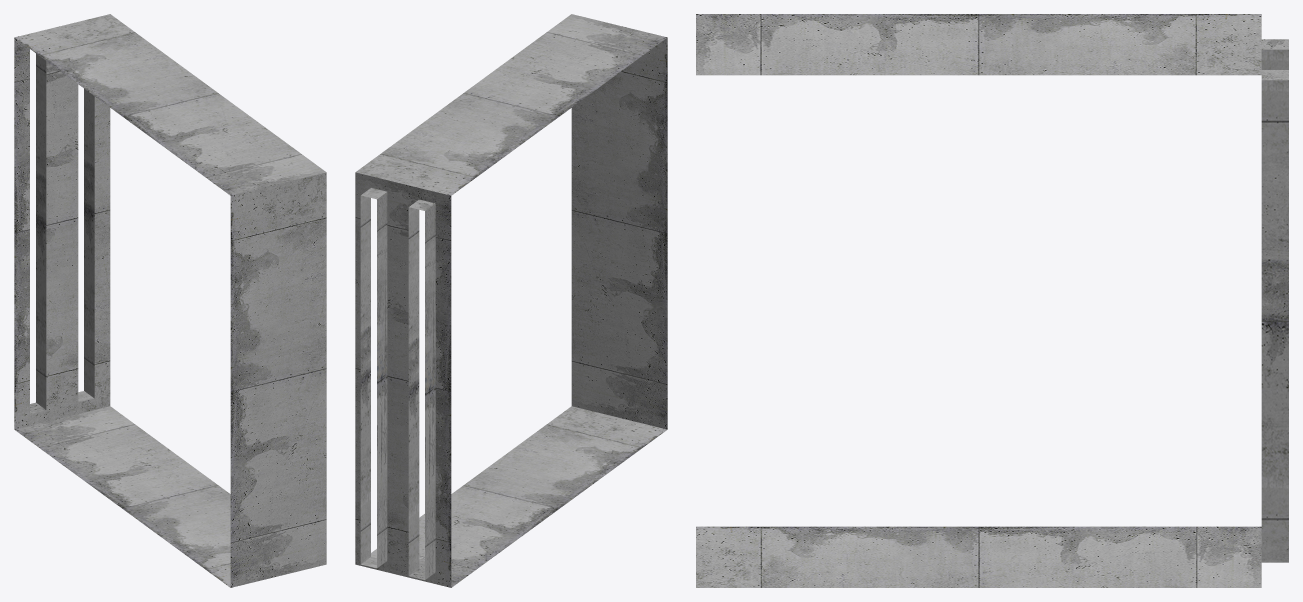
3 renders of one model, left to right at view 1: azimuth 30°, elevation 25°; view 2: azimuth 150°, elevation 25°; view 3: azimuth 270°, elevation 25°, orthographic. The views are drawn at different scales.
Visible parts, largest first — view 1: SM_Box_4_1_LOD0; view 2: SM_Box_4_1_LOD0; view 3: SM_Box_4_1_LOD0.
Part boxes in pixels (left/top/right/bottom): SM_Box_4_1_LOD0: left=14, top=14, right=326, bottom=587; SM_Box_4_1_LOD0: left=355, top=14, right=667, bottom=587; SM_Box_4_1_LOD0: left=696, top=14, right=1288, bottom=587.
Size of the model in its own units: 200 by 818 by 780.
Materials: 1 (1 with a texture image).
